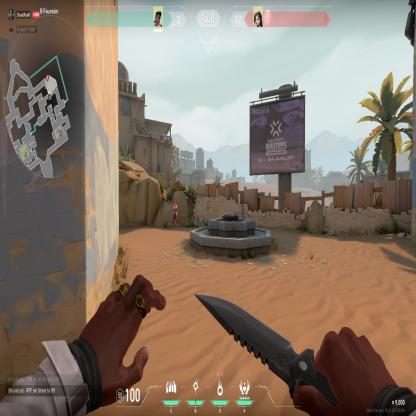enemy: (172, 199, 178, 229)
